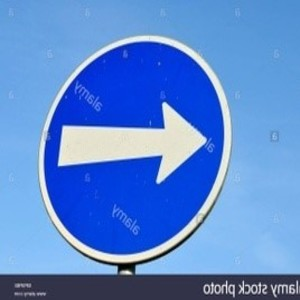trun_right: (37, 37, 233, 262)
